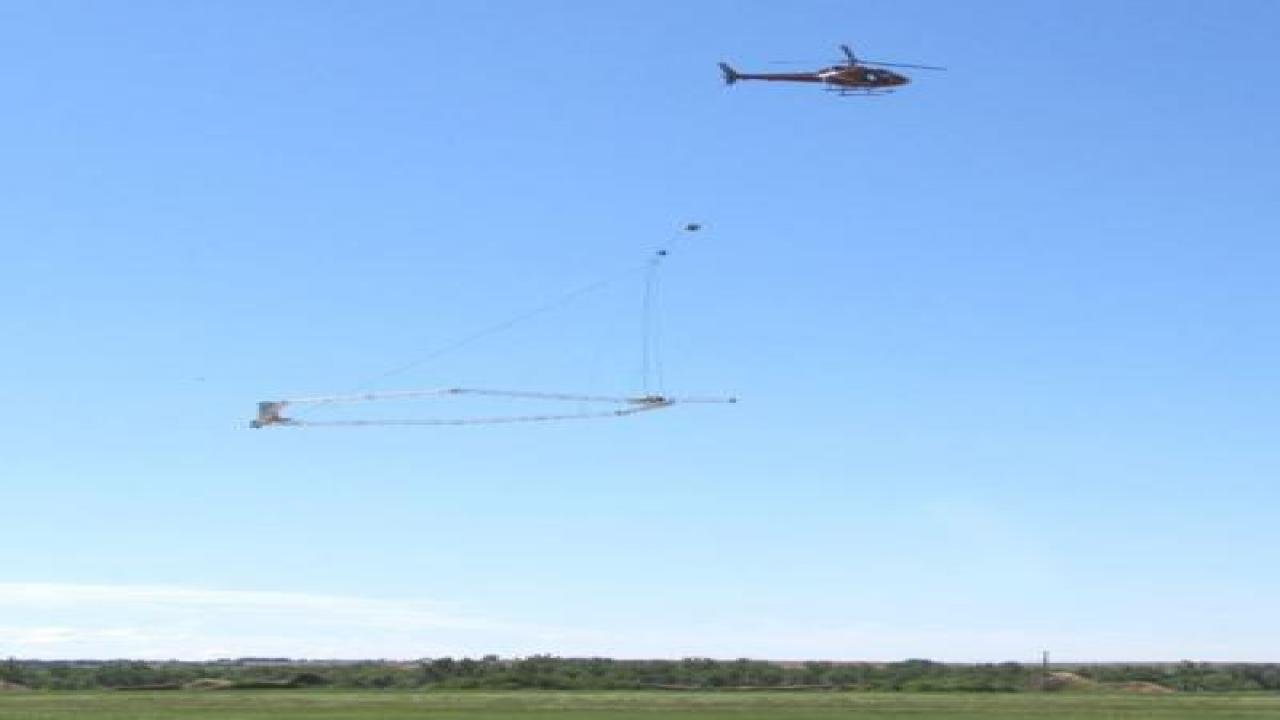Helicopter: (681, 22, 986, 123)
